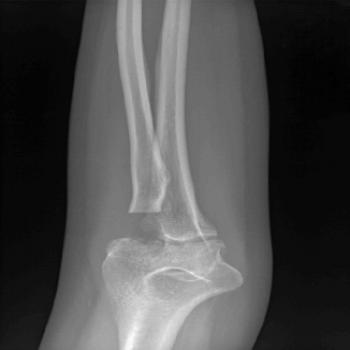Fracture: (105, 201, 178, 259)
